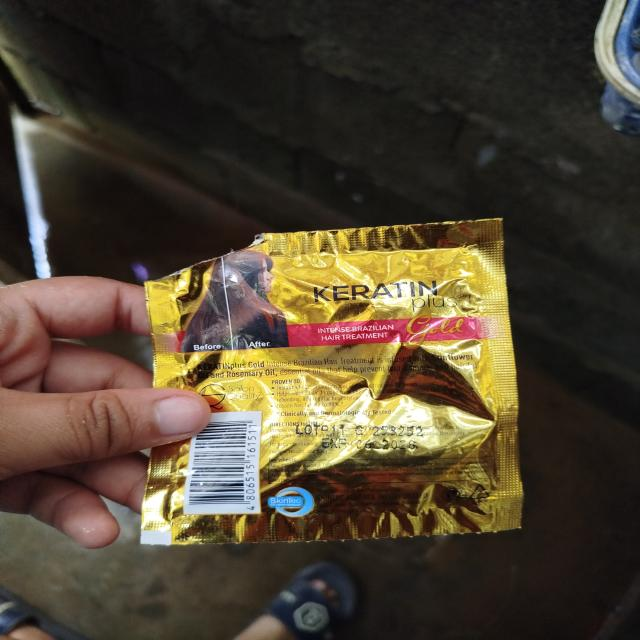residual: (113, 205, 564, 570)
